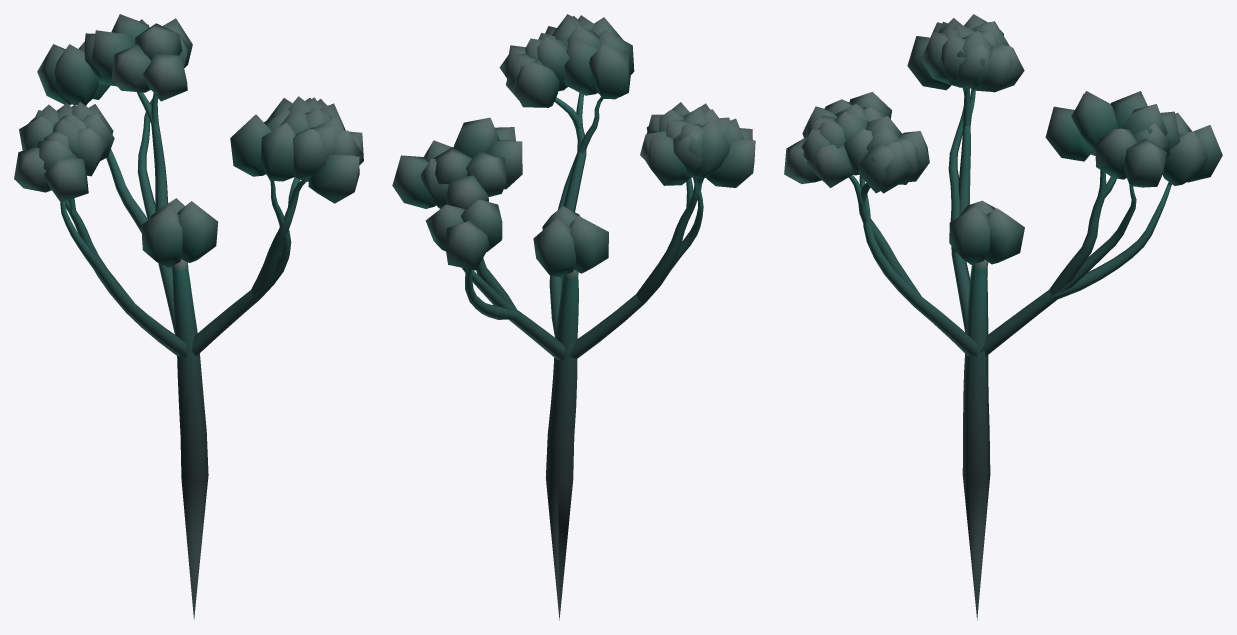
The model's file is plants-flowers-teal-cluster-flower_v5.glb.
The picture shows the model from 3 angles, left to right: view 1: azimuth 30°, elevation 25°; view 2: azimuth 150°, elevation 25°; view 3: azimuth 270°, elevation 25°; orthographic projection.
Parts seen in each view (by area): view 1: Teal Cluster Flower_v5; view 2: Teal Cluster Flower_v5; view 3: Teal Cluster Flower_v5.
Part boxes in pixels (<box>): Teal Cluster Flower_v5: <box>14,14,363,619</box>; Teal Cluster Flower_v5: <box>392,14,755,620</box>; Teal Cluster Flower_v5: <box>784,14,1222,619</box>.
Size of the model in its own units: 0.3343 by 0.6 by 0.4437.
